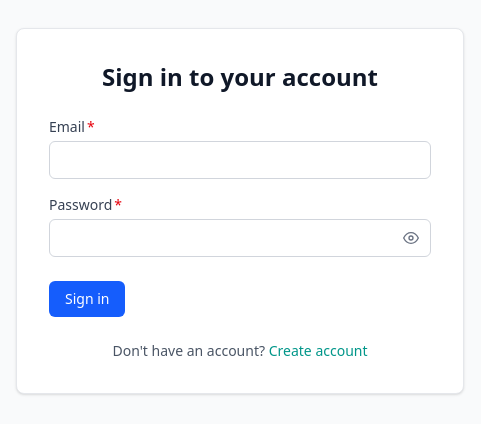
Test: CandidateLoginPage › displays inline validation errors on 422
Click the button "Sign in" at (87, 299), box top-left (49, 281), bottom-right (126, 317)
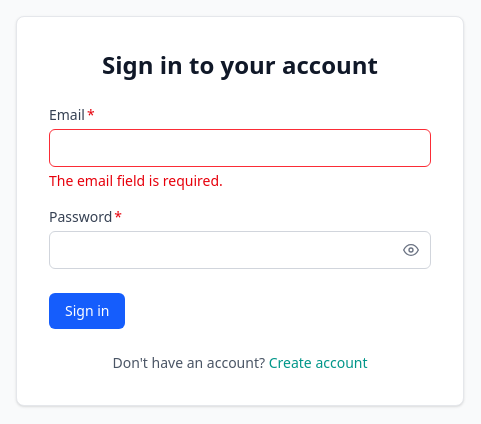
Expected: the text "The email field is required." is shown, top-left (49, 171), bottom-right (223, 190)
